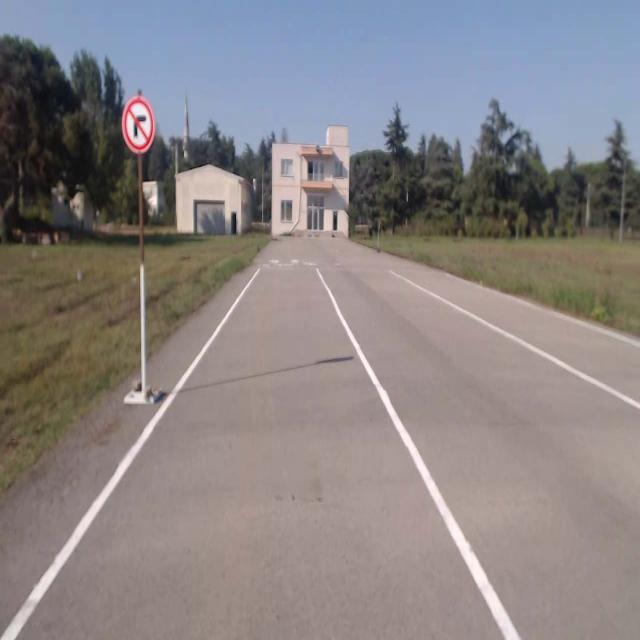sagadonulmez: (121, 96, 155, 152)
